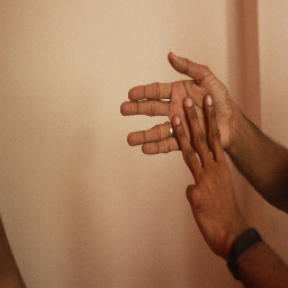M: (114, 48, 235, 190)
